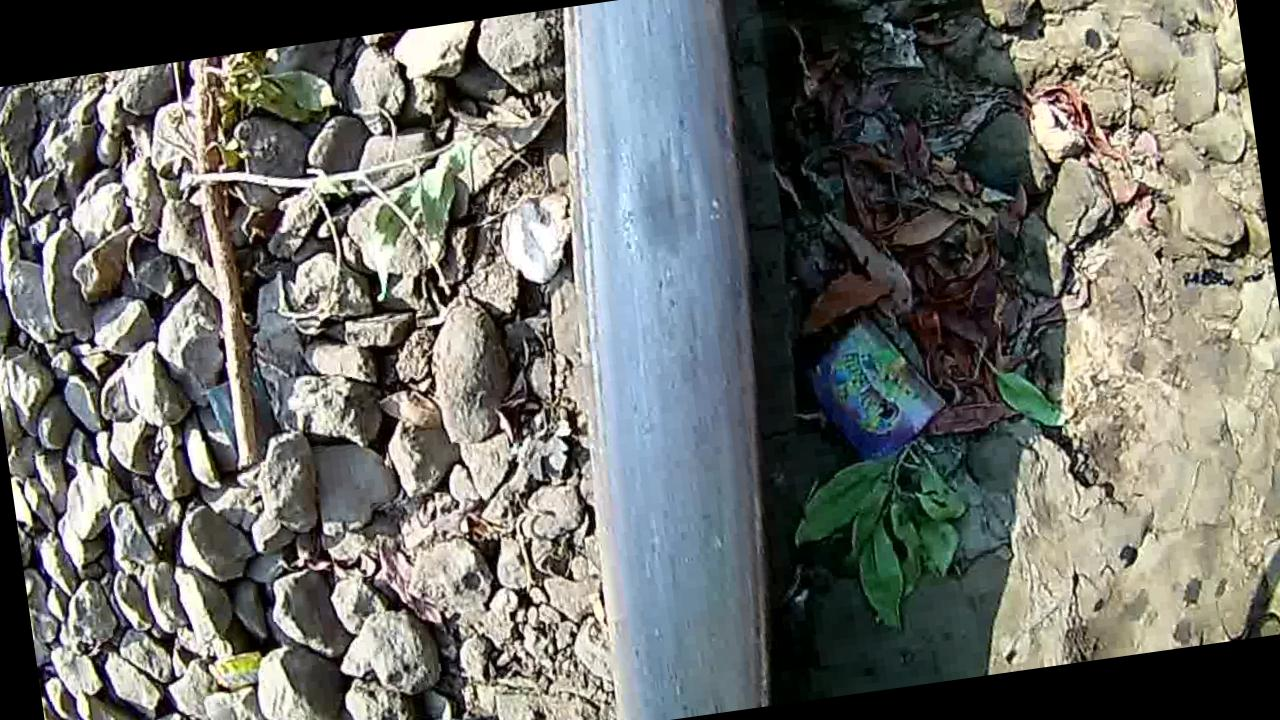bolt_missing: (569, 54, 779, 327)
